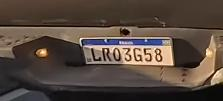Placa_mercosul_carro: (80, 36, 175, 66)
